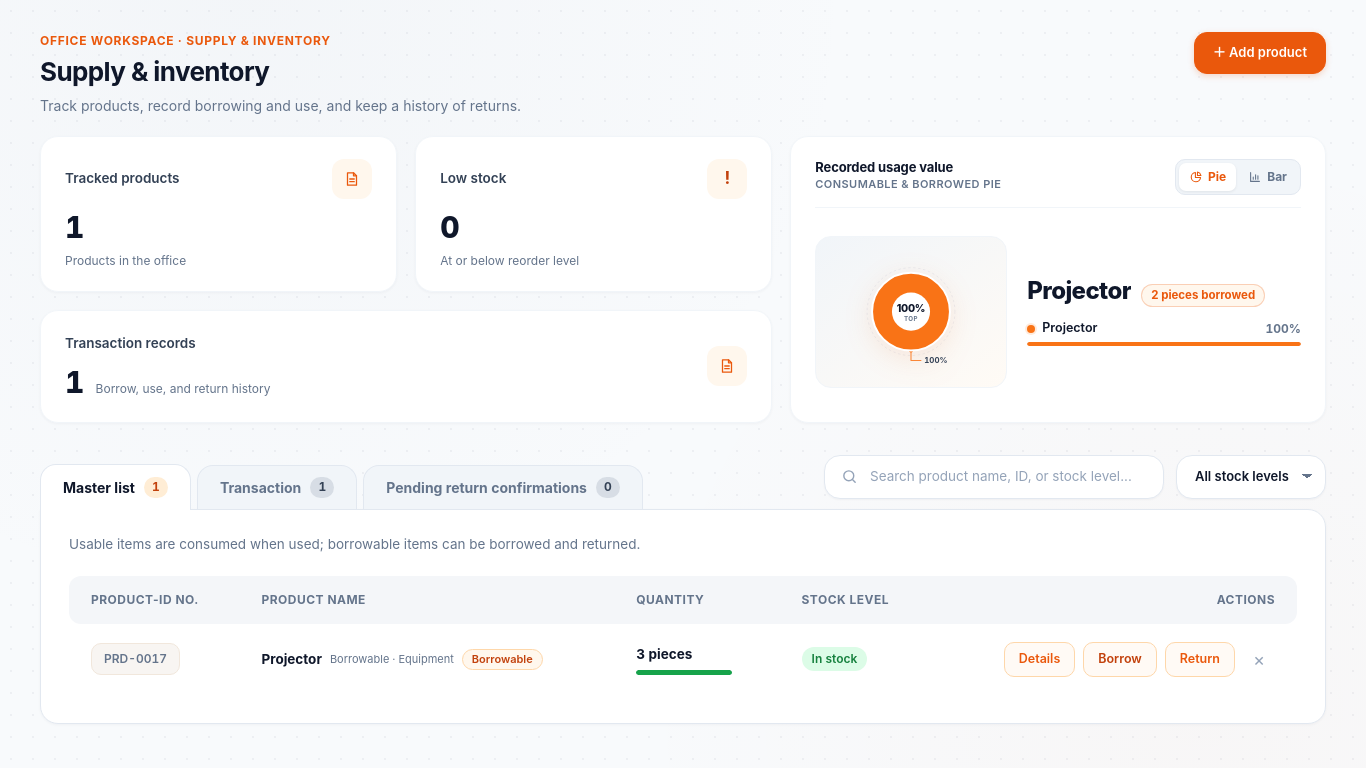
loads transaction rows and borrower usernames from Supabase
The width and height of the screenshot is (1366, 768).
Click the tab "Transaction 1".
click(277, 486)  # box [197,464,357,508]
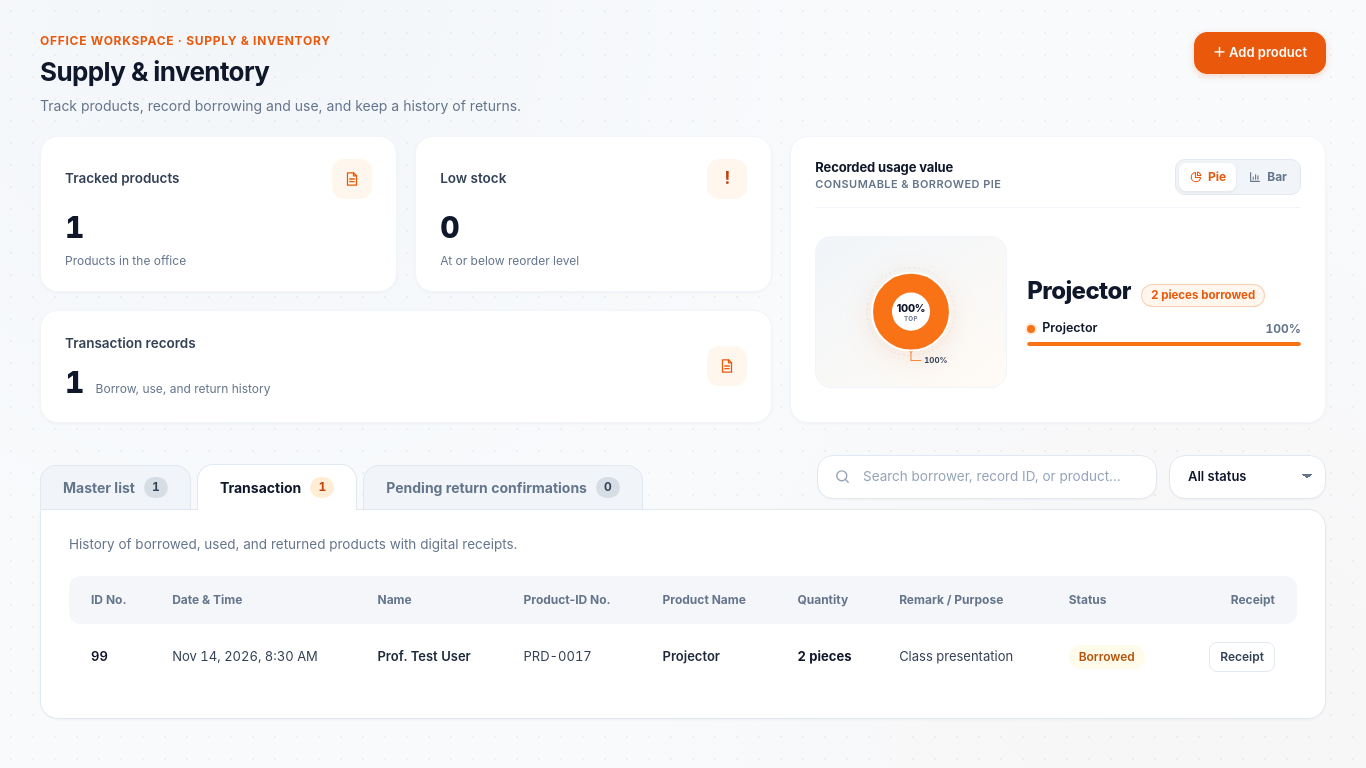
Result: the text "Prof. Test User" is shown at [360,624,506,690]
Result: the text "99" is shown at [91,648,108,664]
Result: the text "Class presentation" is shown at [881,624,1051,690]
